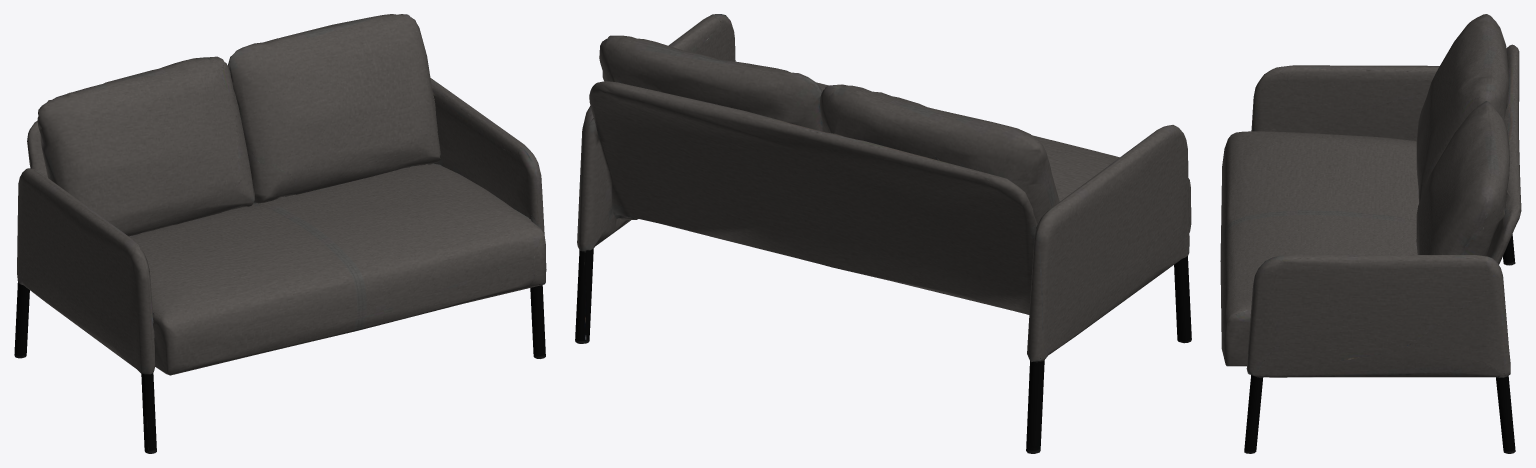
Rendered from GLOSTAD_70489011.glb.
3 renders of one model, left to right at view 1: azimuth 30°, elevation 25°; view 2: azimuth 150°, elevation 25°; view 3: azimuth 270°, elevation 25°, orthographic. The views are drawn at different scales.
Parts seen in each view (by area): view 1: model; view 2: model; view 3: model.
Boxes of the visible parts, x1=… form: model: x1=14, y1=14, x2=546, y2=453; model: x1=575, y1=14, x2=1191, y2=453; model: x1=1220, y1=14, x2=1521, y2=453.
Size of the model in its own units: 1.23 by 0.7659 by 0.7943.
Materials: 1 (1 with a texture image).
